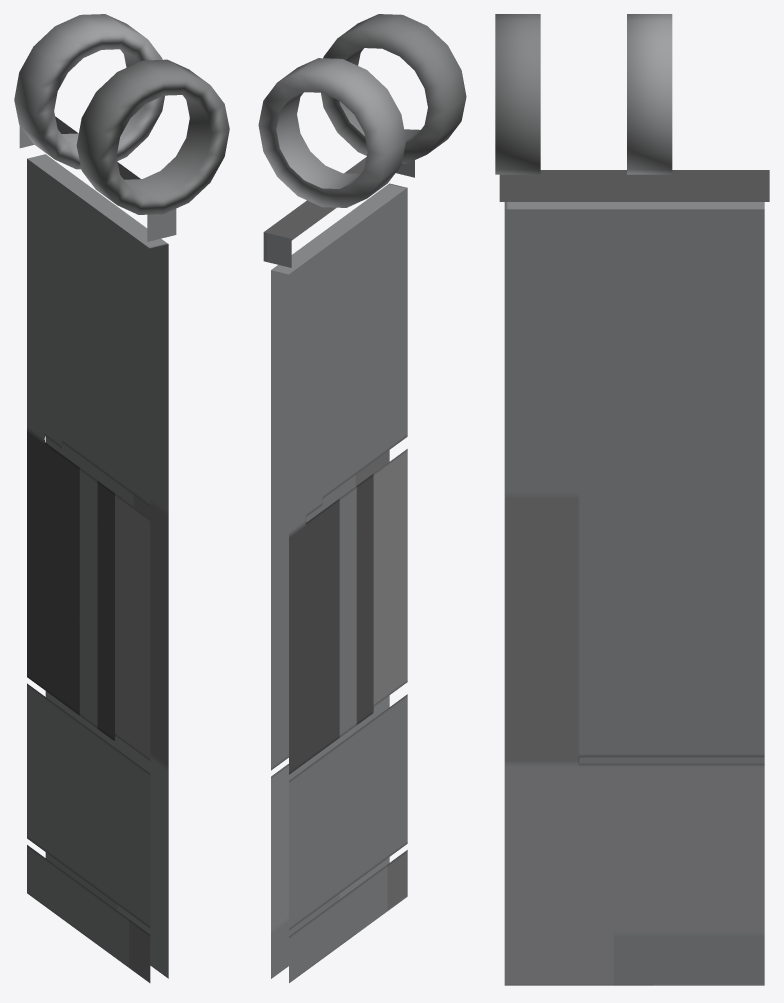
3 renders of one model, left to right at view 1: azimuth 30°, elevation 25°; view 2: azimuth 150°, elevation 25°; view 3: azimuth 270°, elevation 25°, orthographic. The views are drawn at different scales.
Bounding box in the file's own units: 0.128 × 0.847 × 0.2185.
